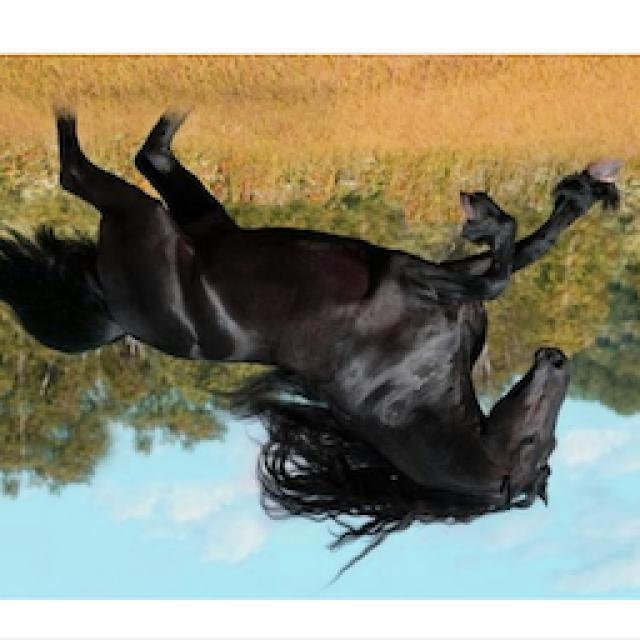Horse: (2, 100, 638, 578)
